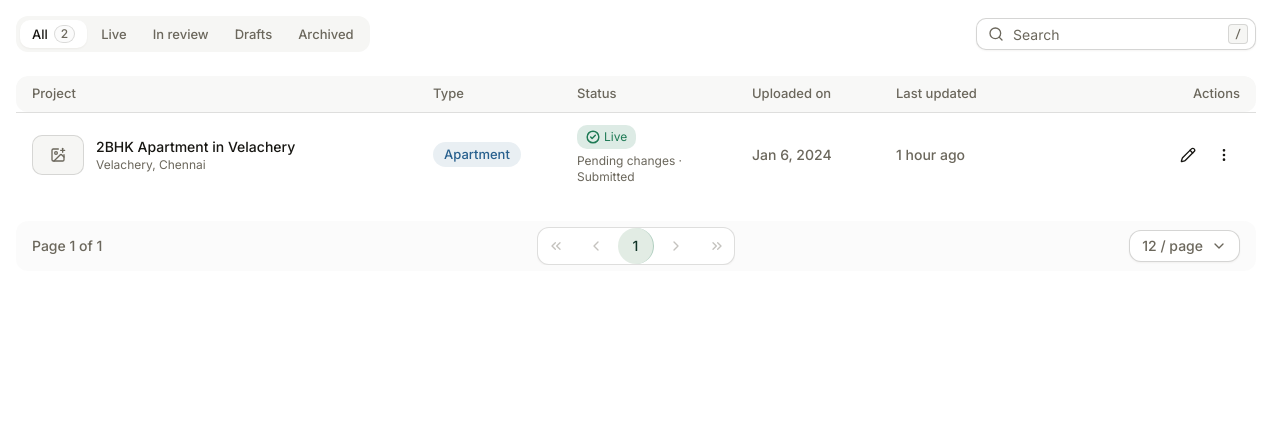
Test case: DesignerProjectsList › explains unavailable submitted versions without promising public access
This screenshot has width=1273, height=430.
Click the button with aria-label "Submitted details".
click(648, 168)  # box [577, 152, 720, 184]
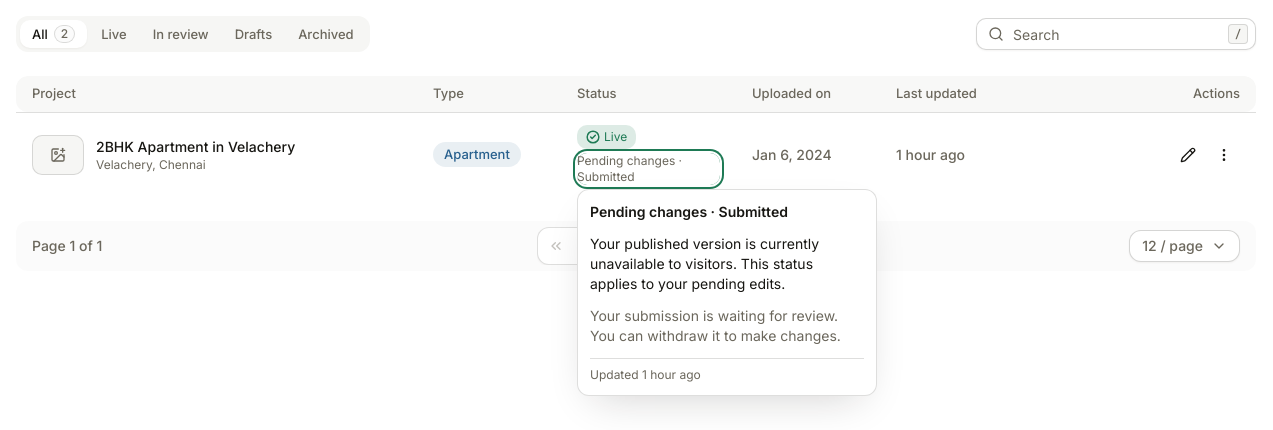
Expected: the tooltip does not show "still live", [577, 189, 877, 396]
Now the tooltip shows "currently unavailable to visitors", box [590, 235, 819, 272]
